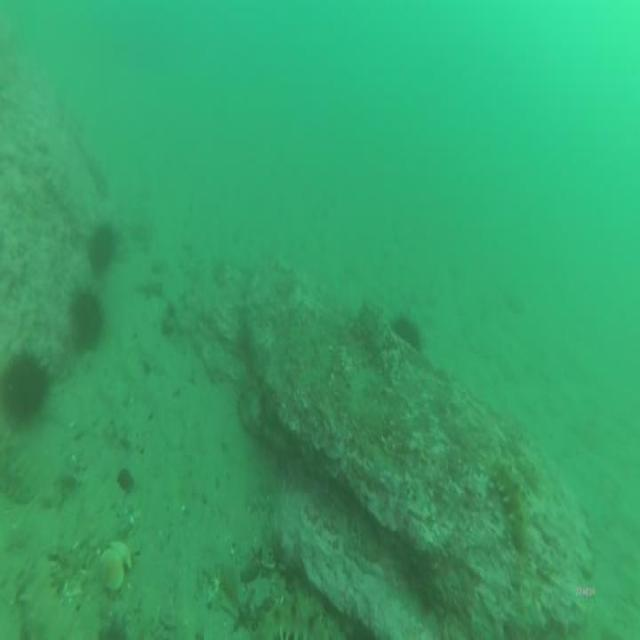echinus: (0, 348, 47, 428), (65, 286, 109, 354), (84, 223, 120, 281), (390, 312, 428, 361)
holothurian: (488, 454, 534, 561), (350, 296, 409, 374), (248, 591, 332, 640), (0, 427, 40, 509)
scallop: (94, 539, 126, 596)
